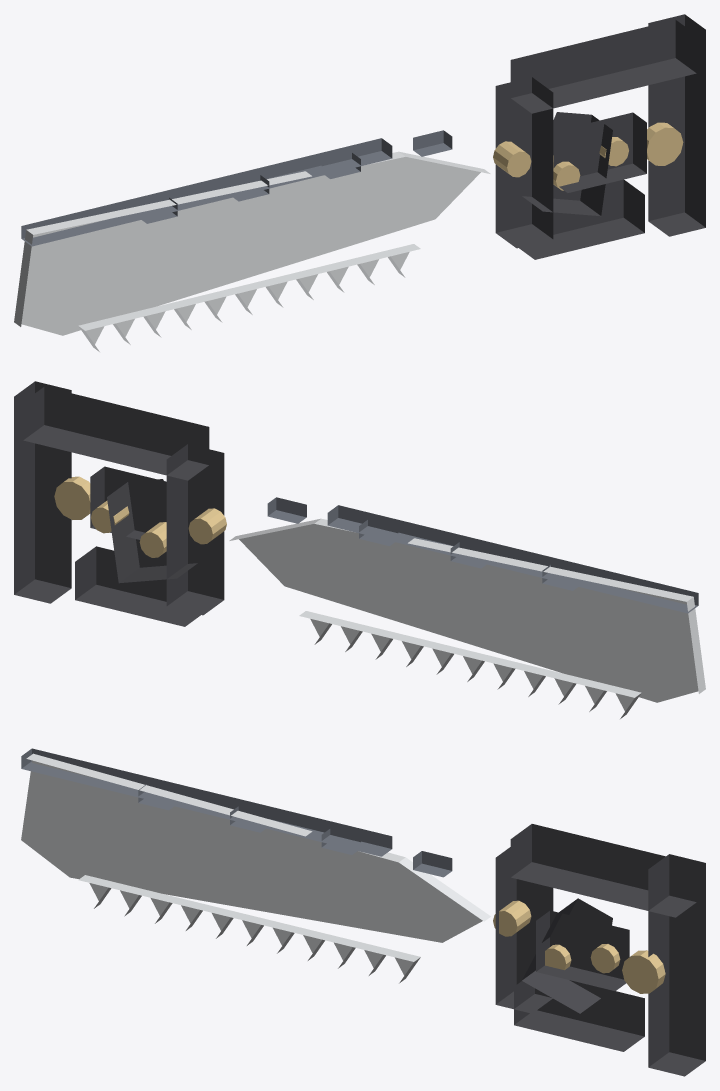
The model's file is hero-handsaw.glb.
3 views of the same model, one above another, from view 1: azimuth 30°, elevation 25°; view 2: azimuth 150°, elevation 25°; view 3: azimuth 330°, elevation 25° (orthographic).
Parts seen in each view (by area): view 1: steel_blade, rubber_handle_top, rubber_handle_front, rubber_handle_back, blackened_steel_spine, rubber_handle_bottom, rubber_handle_inset, rubber_handle_brace, brass_medallion, brass_rivet_1, blackened_steel_spine_slot_4, brass_rivet_2 (+1 smaller); view 2: steel_blade, rubber_handle_top, rubber_handle_front, rubber_handle_back, blackened_steel_spine, rubber_handle_bottom, rubber_handle_brace, rubber_handle_inset, brass_medallion, brass_rivet_1, blackened_steel_spine_slot_4, brass_rivet_2 (+1 smaller); view 3: steel_blade, rubber_handle_front, rubber_handle_top, blackened_steel_spine, rubber_handle_back, rubber_handle_bottom, rubber_handle_inset, rubber_handle_brace, brass_medallion, brass_rivet_1, blackened_steel_spine_slot_4, brass_rivet_3 (+1 smaller).
Boxes of the visible parts, left/top/right/bottom form: steel_blade: left=14, top=151, right=490, bottom=335; rubber_handle_top: left=510, top=19, right=696, bottom=113; rubber_handle_front: left=648, top=14, right=705, bottom=236; rubber_handle_back: left=495, top=77, right=553, bottom=248; blackened_steel_spine: left=21, top=138, right=392, bottom=246; rubber_handle_bottom: left=515, top=179, right=644, bottom=259; rubber_handle_inset: left=553, top=112, right=646, bottom=192; rubber_handle_brace: left=522, top=112, right=612, bottom=216; brass_medallion: left=647, top=122, right=683, bottom=165; brass_rivet_1: left=493, top=141, right=531, bottom=177; blackened_steel_spine_slot_4: left=413, top=130, right=452, bottom=156; brass_rivet_2: left=553, top=155, right=580, bottom=190; steel_blade: left=229, top=518, right=705, bottom=702; rubber_handle_top: left=23, top=386, right=209, bottom=480; rubber_handle_front: left=14, top=381, right=71, bottom=603; rubber_handle_back: left=166, top=444, right=224, bottom=615; blackened_steel_spine: left=327, top=505, right=698, bottom=613; rubber_handle_bottom: left=75, top=546, right=205, bottom=626; rubber_handle_brace: left=107, top=479, right=197, bottom=583; rubber_handle_inset: left=90, top=466, right=166, bottom=539; brass_medallion: left=54, top=476, right=90, bottom=519; brass_rivet_1: left=188, top=508, right=226, bottom=544; blackened_steel_spine_slot_4: left=267, top=497, right=306, bottom=523; brass_rivet_2: left=139, top=522, right=166, bottom=557; steel_blade: left=21, top=753, right=490, bottom=942; rubber_handle_front: left=648, top=854, right=705, bottom=1076; rubber_handle_top: left=510, top=824, right=696, bottom=917; blackened_steel_spine: left=21, top=748, right=392, bottom=856; rubber_handle_back: left=495, top=846, right=553, bottom=1013; rubber_handle_bottom: left=514, top=981, right=644, bottom=1051; rubber_handle_inset: left=536, top=910, right=629, bottom=991; rubber_handle_brace: left=522, top=898, right=612, bottom=1013; brass_medallion: left=622, top=950, right=665, bottom=993; brass_rivet_1: left=493, top=900, right=531, bottom=936; blackened_steel_spine_slot_4: left=413, top=851, right=452, bottom=877; brass_rivet_3: left=590, top=944, right=620, bottom=973.
Size of the model in its own units: 2.22 by 0.62 by 0.15.
